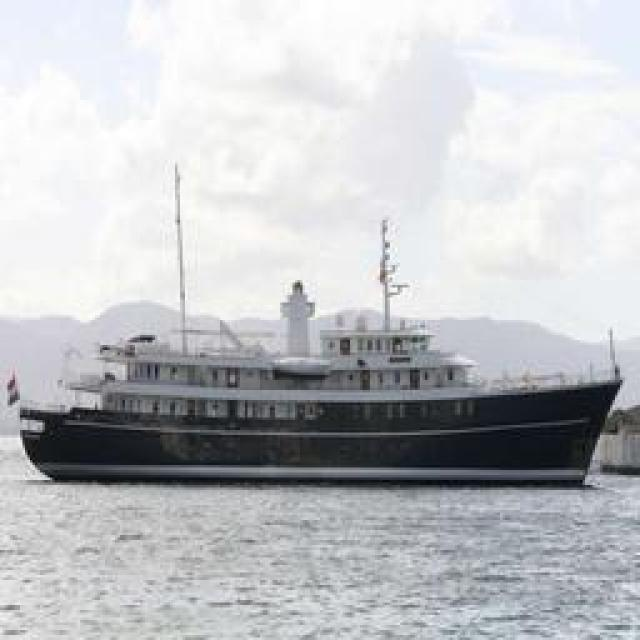CIV_Ship: (21, 211, 621, 484)
